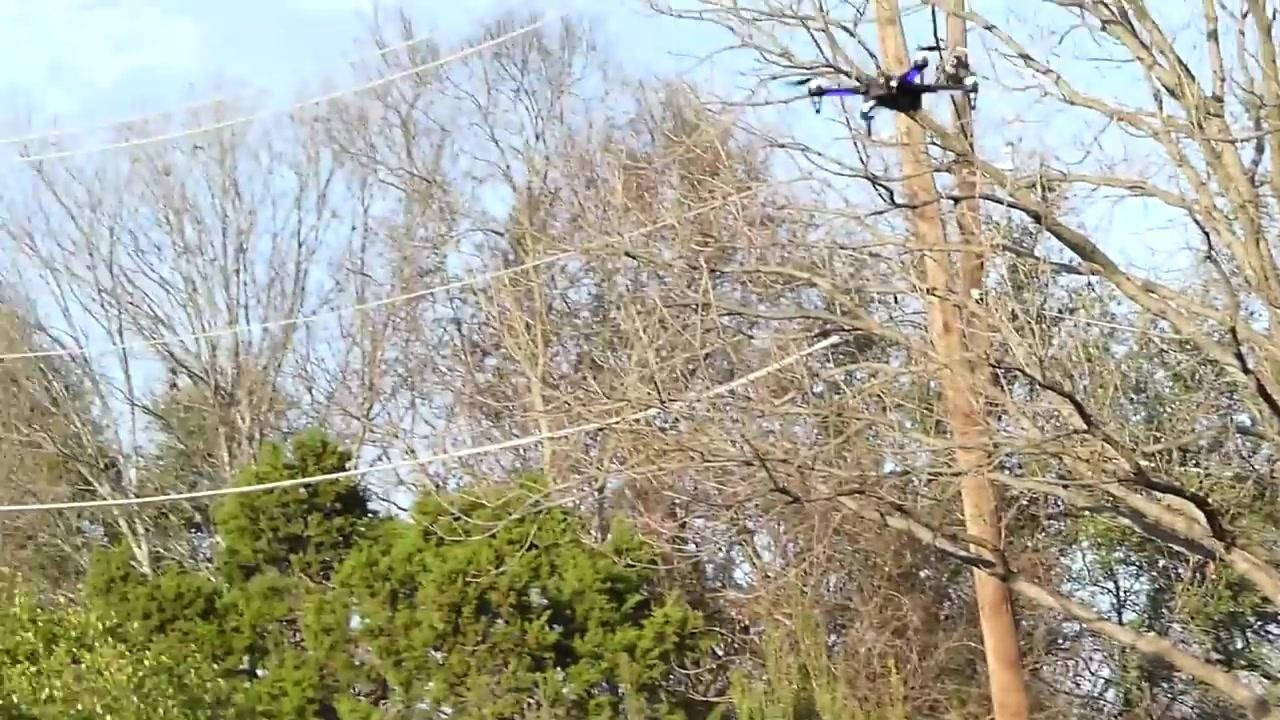UAV: (808, 57, 980, 139)
